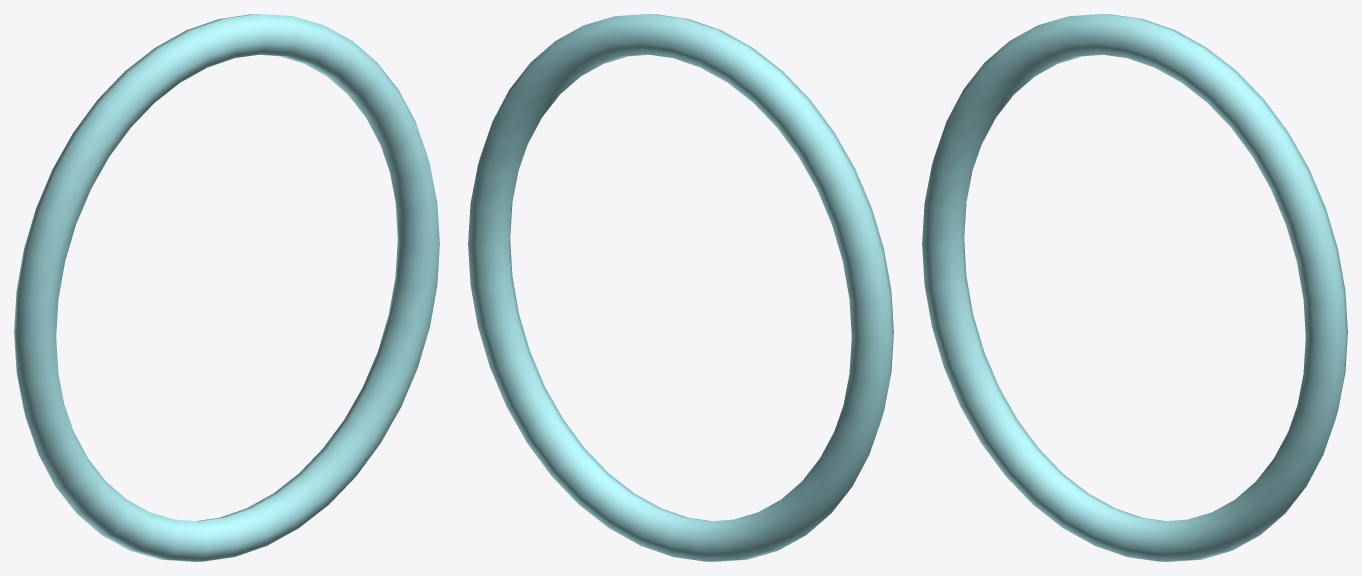
The model's file is prism_slime_frame.obj.
3 views of the same model, side by side, from view 1: azimuth 30°, elevation 25°; view 2: azimuth 150°, elevation 25°; view 3: azimuth 330°, elevation 25° (orthographic).
Parts seen in each view (by area): view 1: PrismSlimeFrame; view 2: PrismSlimeFrame; view 3: PrismSlimeFrame.
Boxes of the visible parts, x1,y1,x2,y2 form: PrismSlimeFrame: [14, 14, 439, 561]; PrismSlimeFrame: [468, 14, 893, 561]; PrismSlimeFrame: [922, 14, 1347, 561].
Bounding box in the file's own units: 1.45 × 1.77 × 0.13.
